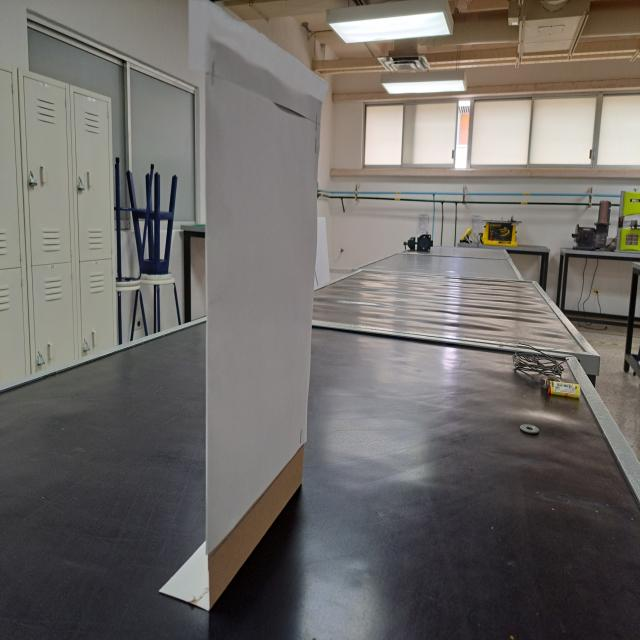wall: (203, 3, 324, 611)
